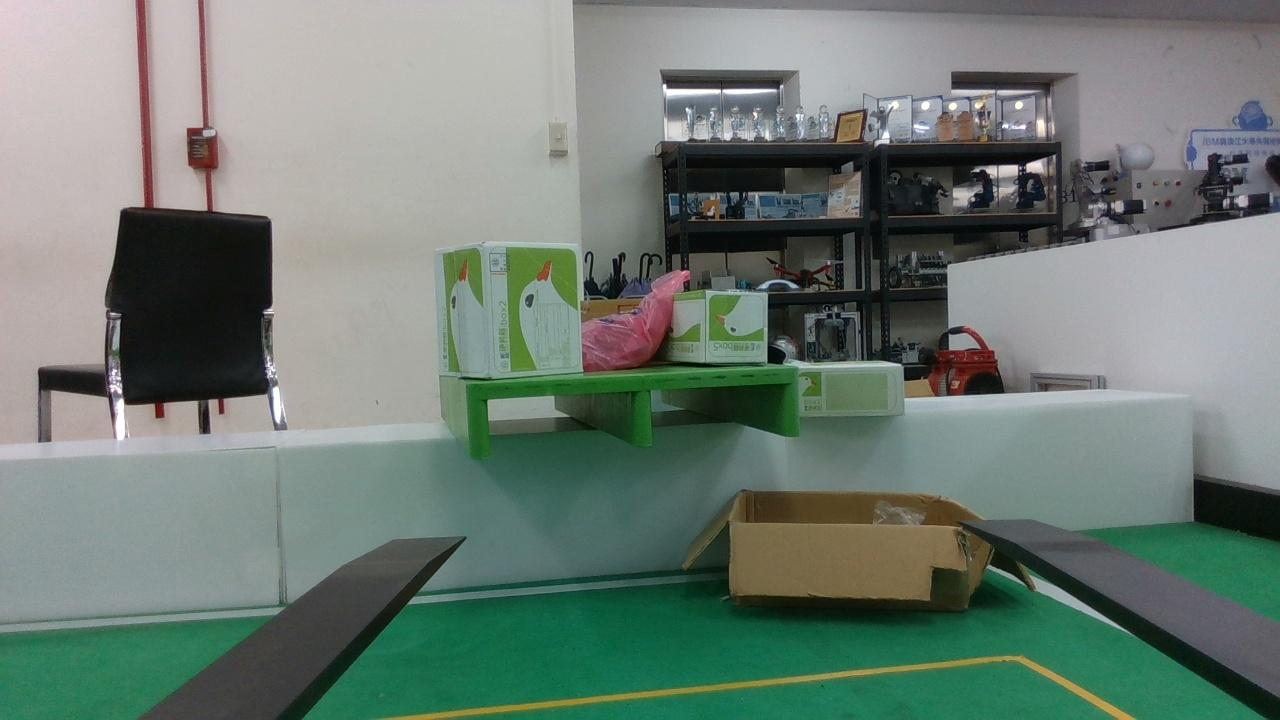Pallet: (467, 366, 802, 457)
